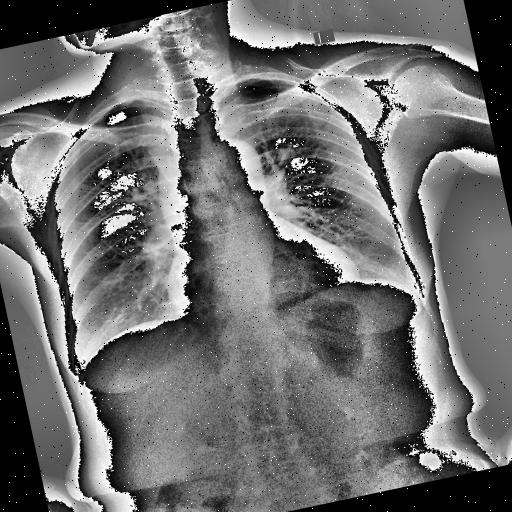0- Aortic enlargement: (196, 130, 266, 194), (201, 133, 266, 198)
11- Pleural thickening: (246, 72, 296, 96), (96, 98, 138, 119)
3- Cardiomegaly: (161, 229, 361, 326), (162, 234, 361, 328), (162, 236, 364, 326)
